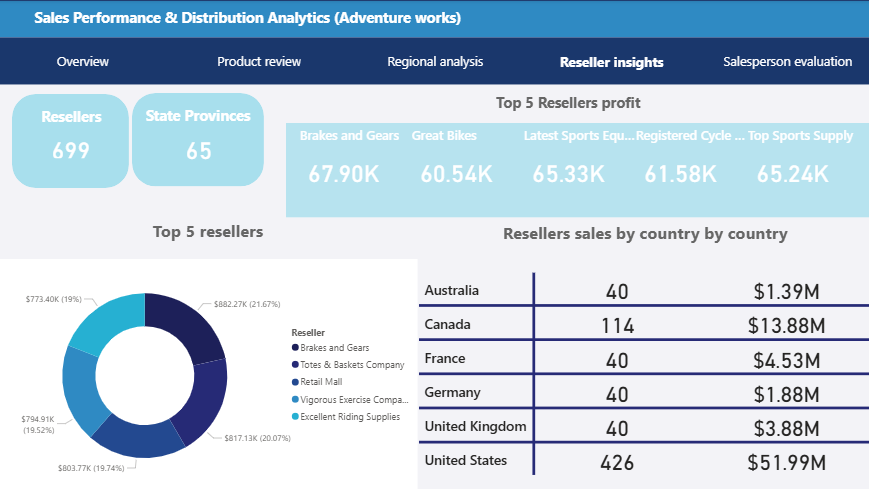

Layout of this report page (visuals, bound fields, positions):
{"tool":"powerbi","page":{"name":"Reseller insights","canvas":[1280,720],"ordinal":3},"visuals":[{"type":"group","id":"g1","title":"Group 6","box":[0,0,1280.5,122.9],"z":0},{"type":"shape","box":[0,0,1280,55.4],"z":1000,"group":"g1"},{"type":"shape","box":[196.5,136.7,193.1,136.7],"z":1000},{"type":"textbox","box":[36,0,658,55.7],"z":2000,"group":"g1"},{"type":"shape","box":[20.5,137.6,171.2,137.6],"z":2000},{"type":"bookmarkNavigator","box":[0,55.9,1280,67.7],"z":3000,"group":"g1"},{"type":"textbox","box":[196.5,148.7,193.1,44.4],"z":3000},{"type":"treemap","fields":{"Group":["Reseller.Reseller"],"Values":["Sum(Sales.Sales)"]},"box":[0,378.5,614.5,341.6],"z":4000},{"type":"cardVisual","fields":{"Data":["Count(Reseller.State-Province)"]},"box":[252.9,176,82,78.6],"z":5000},{"type":"cardVisual","fields":{"Data":["Count(Reseller.Reseller)"]},"box":[59.8,176,94,61.5],"z":6000},{"type":"cardVisual","fields":{"Data":["Count(Reseller.Reseller)","Sum(Sales.Sales)"],"Rows":["Reseller.Country-Region"]},"box":[616.2,378.5,663.8,341.6],"z":7000},{"type":"textbox","box":[39.2,150.5,135.2,40.5],"z":8000},{"type":"textbox","box":[714.8,318.7,466.6,45.8],"z":9000},{"type":"textbox","box":[191.7,316.1,231.2,48.3],"z":10000},{"type":"cardVisual","fields":{"Rows":["Reseller.Reseller"],"Data":["Sales.Profit"]},"box":[422.1,179.4,857.9,138.4],"z":11000},{"type":"textbox","box":[685.3,129.9,299.1,49.6],"z":12000}]}

Visuals, with their boxes in screenshot pixels (x1, y1, x2, y2), scaled from the page's 1280x720 canvas onto the 869x489 screenshot:
"Group 6" group: region(0, 0, 868, 83)
shape: region(0, 0, 868, 38)
shape: region(133, 93, 265, 186)
textbox: region(24, 0, 471, 38)
shape: region(14, 93, 130, 187)
bookmarkNavigator: region(0, 38, 868, 84)
textbox: region(133, 101, 265, 131)
treemap - Reseller.Reseller x Sum(Sales.Sales): region(0, 257, 417, 488)
cardVisual - Count(Reseller.State-Province): region(172, 120, 227, 173)
cardVisual - Count(Reseller.Reseller): region(41, 120, 104, 161)
cardVisual - Count(Reseller.Reseller) x Sum(Sales.Sales): region(418, 257, 868, 488)
textbox: region(27, 102, 118, 130)
textbox: region(485, 216, 802, 248)
textbox: region(130, 215, 287, 247)
cardVisual - Reseller.Reseller x Sales.Profit: region(287, 122, 868, 216)
textbox: region(465, 88, 668, 122)
